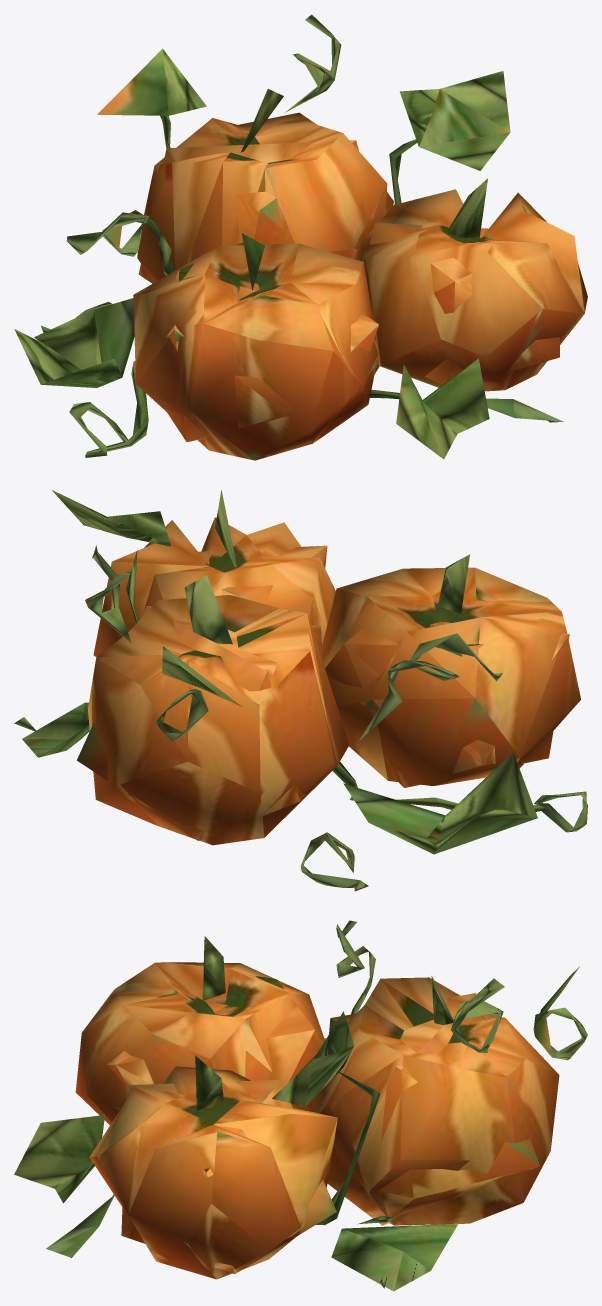
File: ch-courges-semis.glb
The picture shows the model from 3 angles, top to bottom: view 1: azimuth 30°, elevation 25°; view 2: azimuth 150°, elevation 25°; view 3: azimuth 270°, elevation 25°; orthographic projection. The views are drawn at different scales.
Parts seen in each view (by area): view 1: ch-courges-semis; view 2: ch-courges-semis; view 3: ch-courges-semis.
Part boxes in pixels (box(x1,y1,x2,y2)): ch-courges-semis: box(14, 14, 587, 460); ch-courges-semis: box(14, 489, 587, 891); ch-courges-semis: box(14, 920, 587, 1291).
Size of the model in its own units: 1.93 by 1.05 by 1.96.
Materials: 1 (1 with a texture image).
